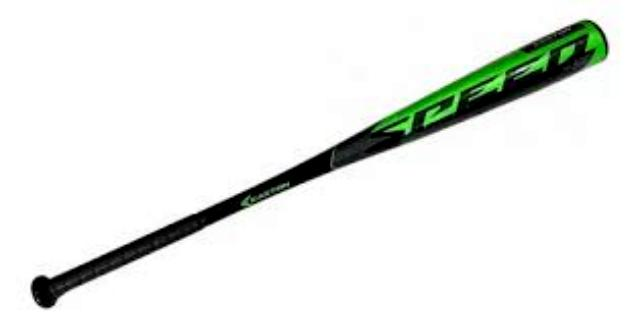baseball bat: (30, 13, 610, 309)
